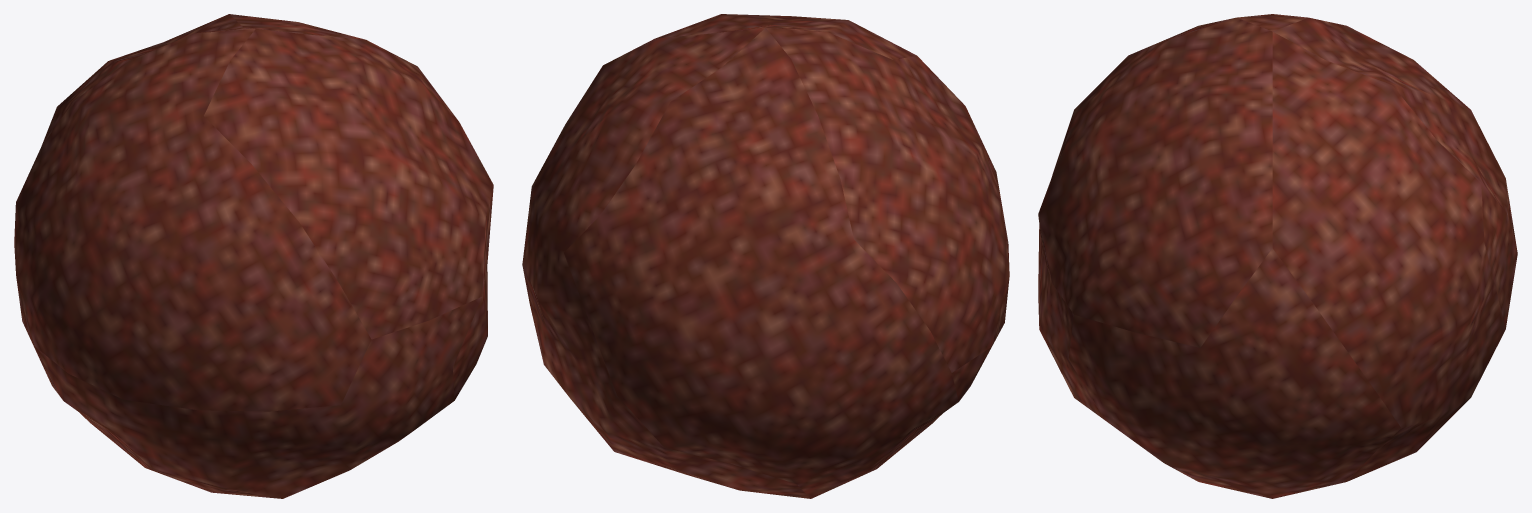
File: FireBall.fbx
3 renders of one model, left to right at view 1: azimuth 30°, elevation 25°; view 2: azimuth 150°, elevation 25°; view 3: azimuth 270°, elevation 25°, orthographic.
Parts seen in each view (by area): view 1: FireBall; view 2: FireBall; view 3: FireBall.
Boxes of the visible parts, x1,y1,x2,y2 form: FireBall: [14, 14, 493, 498]; FireBall: [522, 14, 1009, 498]; FireBall: [1038, 14, 1517, 498].
Size of the model in its own units: 102 by 102 by 101.
1 material, 1 textured.
